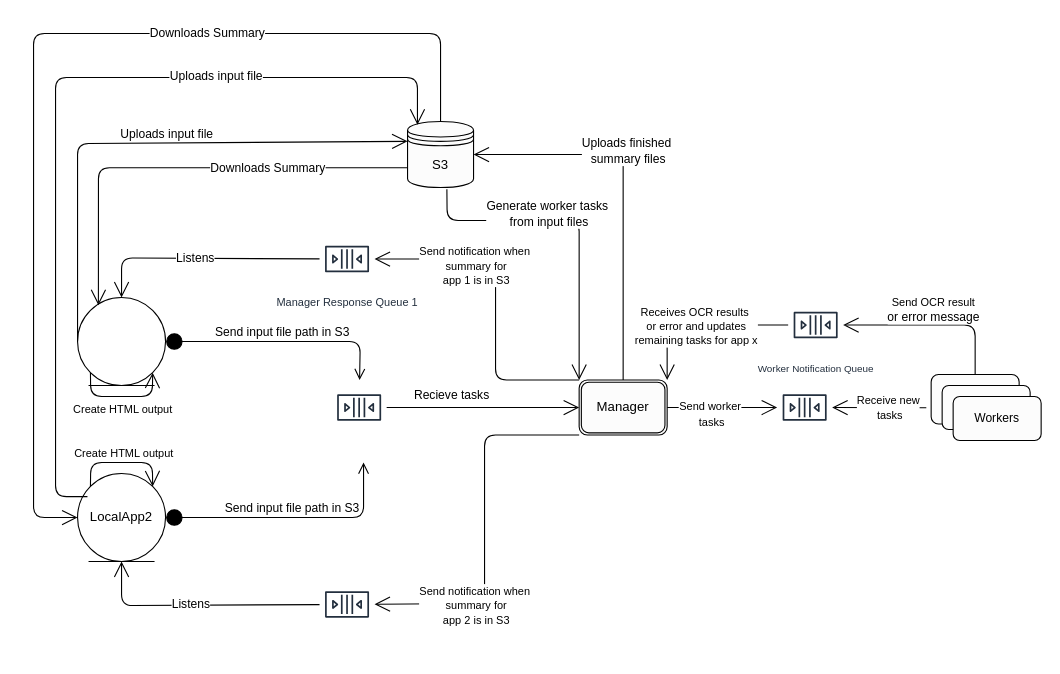
Some shapes in this 1060 by 674 pixel diagram are drawn without their labels. The centre of each missing label's shape, as x and y in pixels:
LocalApp1: [121,341]
Manager Response Queue 2: [346,604]
Manager Tasks Queue: [359,407]
Worker Task Queue: [804,407]
